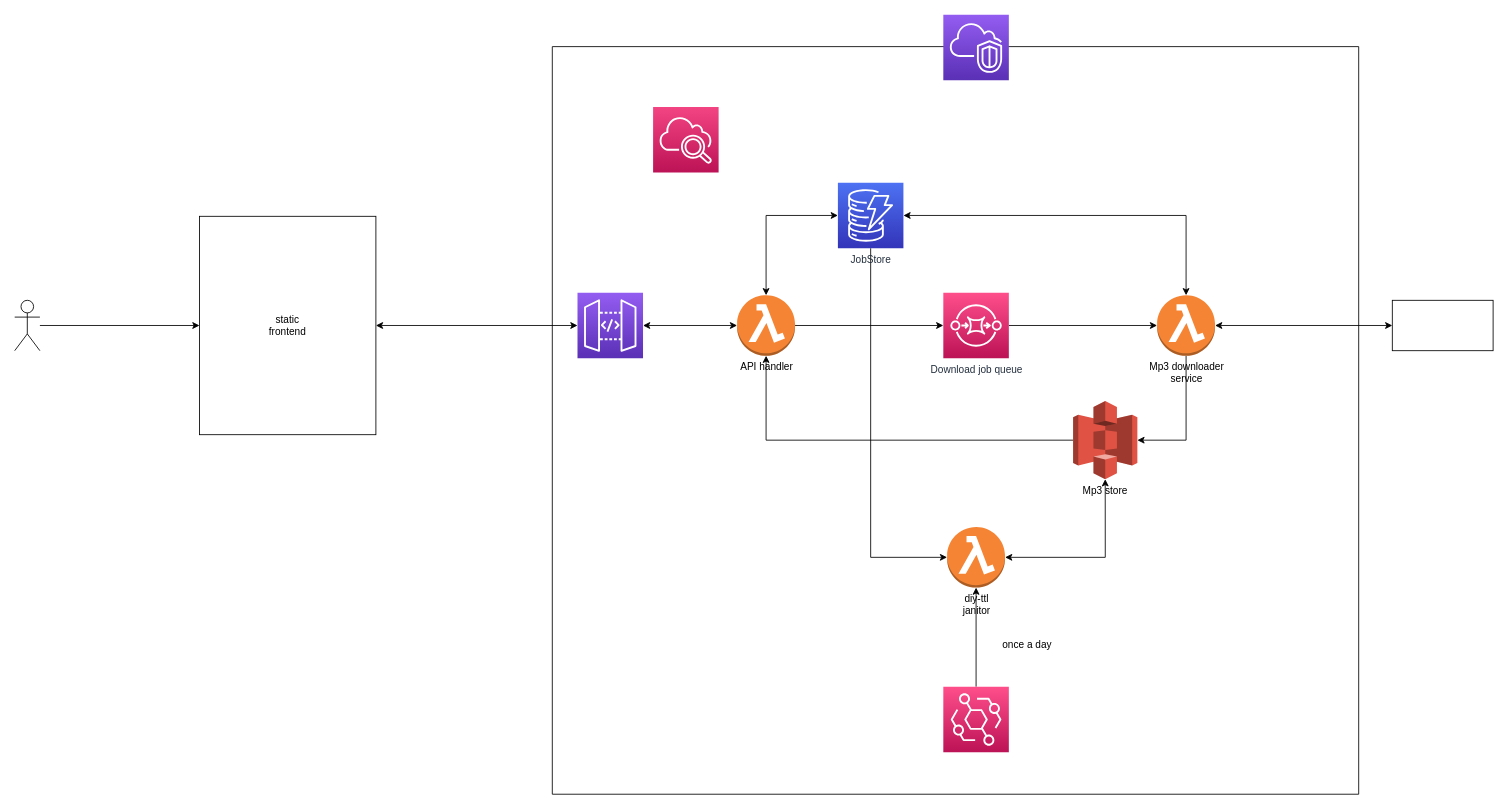
Image size: 1508x809. Some labels were removed from this diagram. The centre of each missing label's shape, as x and y in pixels:
"downloader backend API" goes at point (610, 325).
"Logs" goes at point (685, 139).
"User" goes at point (27, 325).
"YouTube" goes at point (1442, 325).
